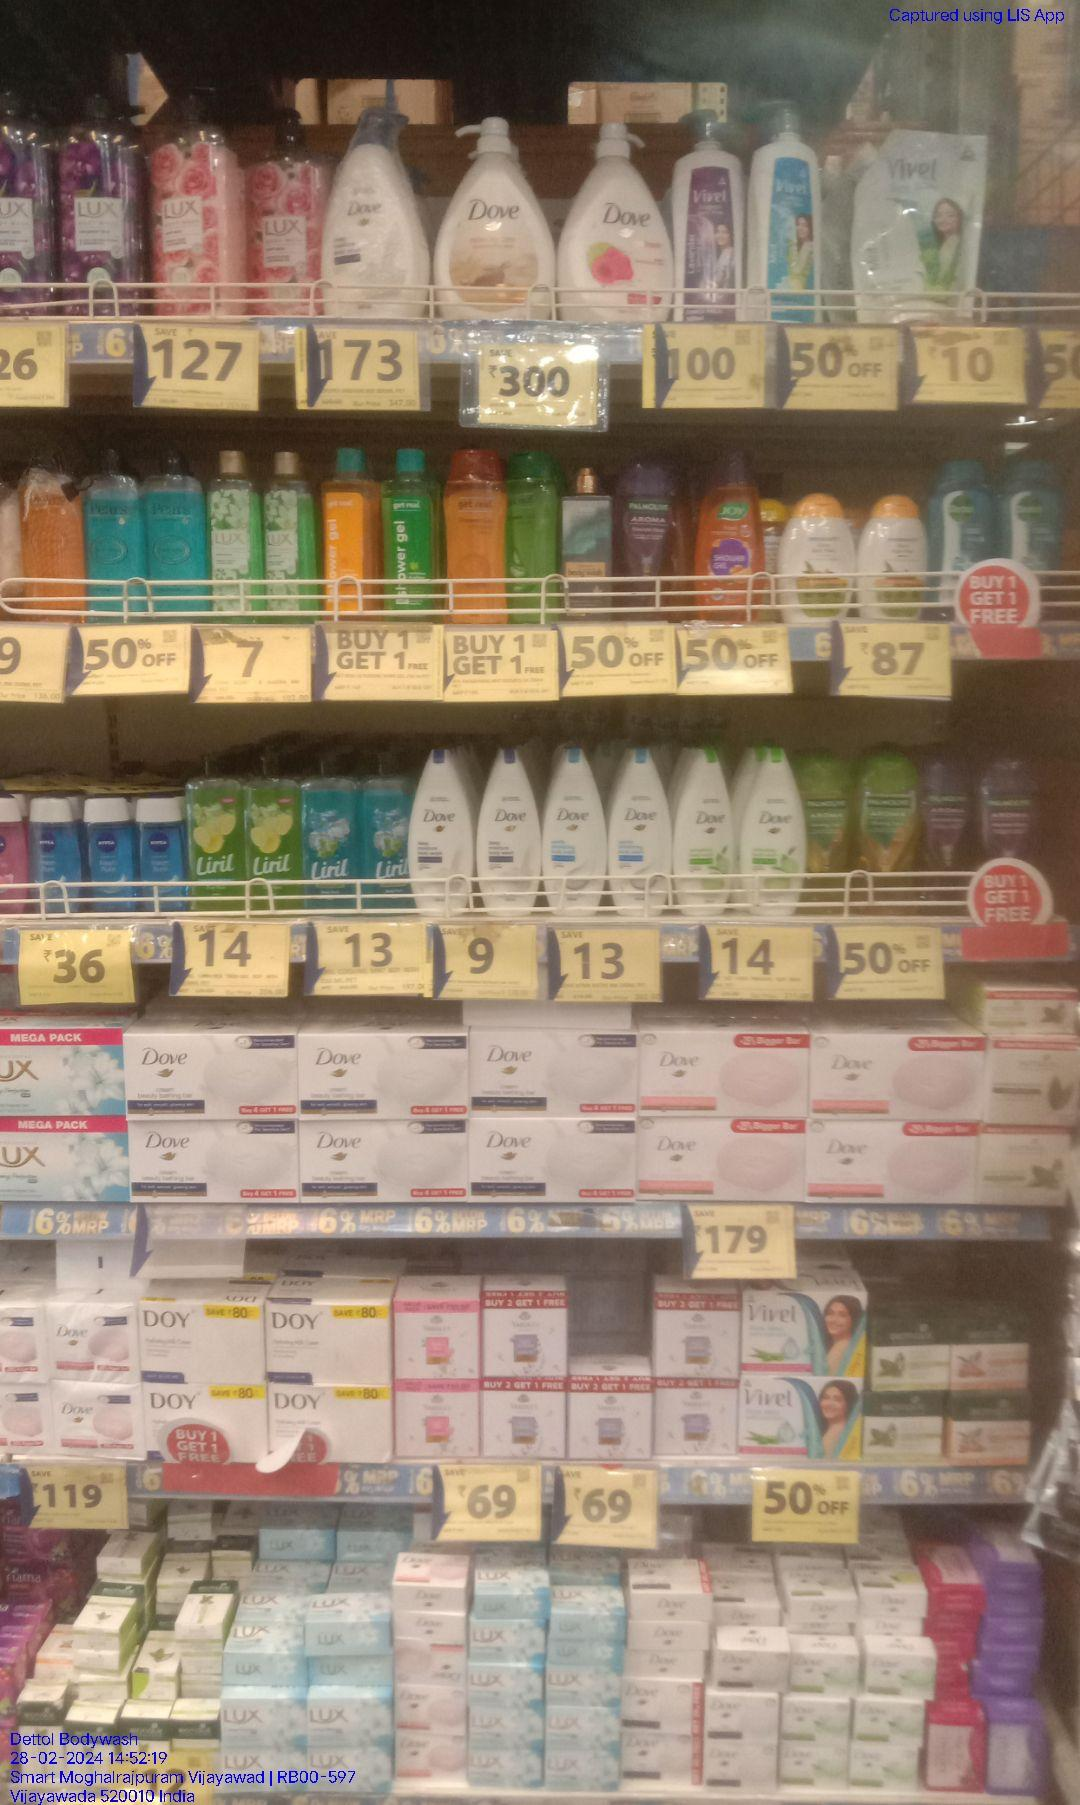Dettol_Bodywash_Cool: (933, 458, 995, 622), (1002, 456, 1068, 606)
Dove_Deep_Moisture_Body_Wash_250ML: (410, 746, 472, 922), (478, 748, 540, 919)
Dove_Gentle_Exfoliating_Body_Wash_250ML: (608, 747, 670, 917), (543, 747, 604, 917)
Dove_Refreshing_Body_Wash_250ML: (739, 747, 802, 919), (680, 748, 733, 918)
Get_Real_Shower_Gel_Moisturising_Glycerin_300ML: (446, 445, 510, 620)
Joy_Shower_Gel_Mandarin_and_Lemongrass_250ML: (697, 450, 769, 625)
Liril_Cooling_Mint_Body_Wash_250ML: (303, 744, 359, 917), (365, 747, 409, 917)
Liril_Lime_and_Tea_Tree_Oil_Body_Wash_250ML: (189, 751, 248, 918), (249, 746, 296, 914)
Lux_Body_Wash_Skin_Detox_Freesia_Scent_and_Alove_Vera_245ML: (267, 449, 323, 626), (208, 450, 261, 622)
Palmolive_Aroma_Morning_Tonic_Shower_Gel_250ML: (855, 744, 915, 917), (806, 747, 854, 911)
Palmolive_Aroma_Relax_250ML: (620, 454, 687, 624), (919, 747, 978, 914), (982, 756, 1045, 860)
